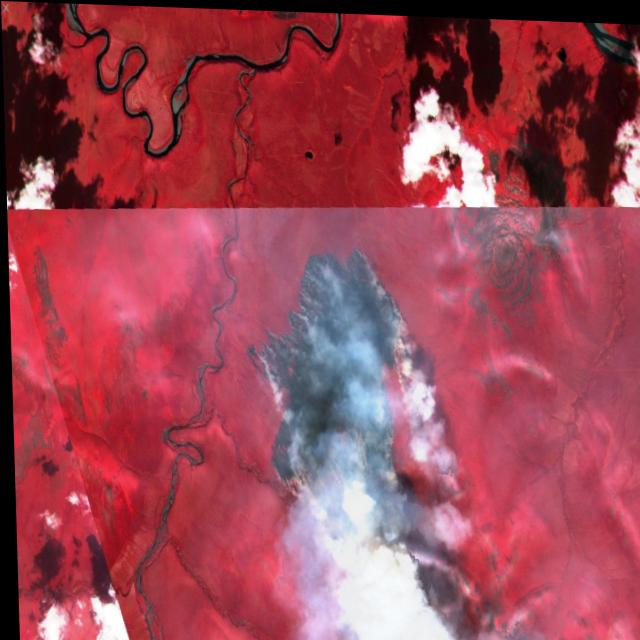fire: (237, 234, 412, 505)
